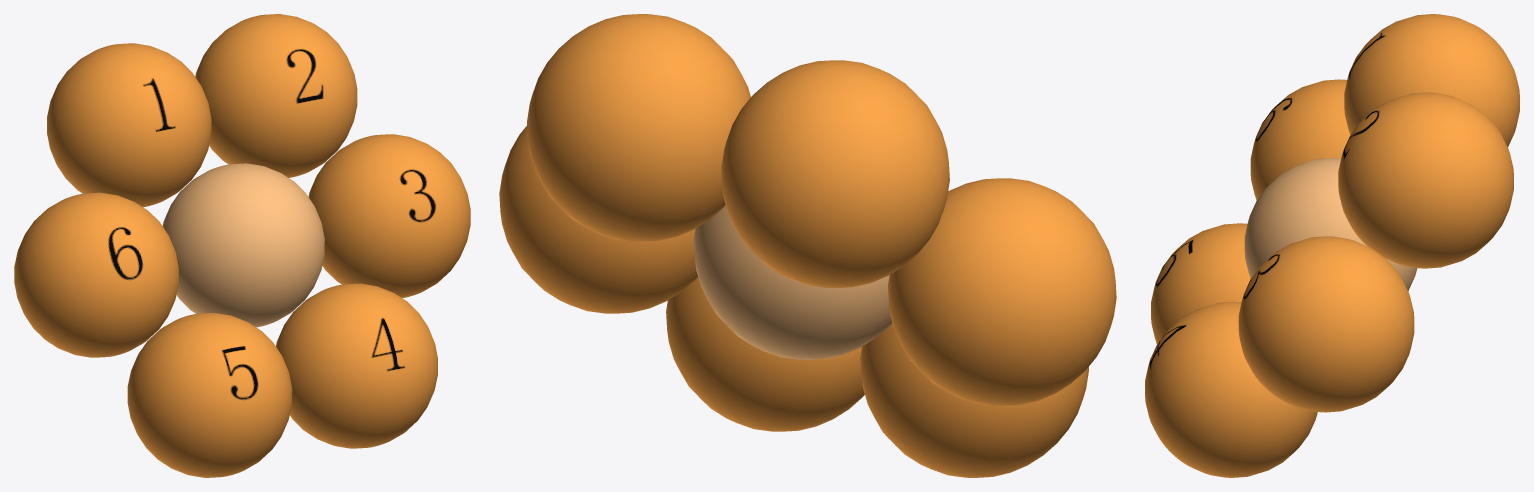
The model's file is huangse.FBX.
3 views of the same model, side by side, from view 1: azimuth 30°, elevation 25°; view 2: azimuth 150°, elevation 25°; view 3: azimuth 270°, elevation 25° (orthographic). The views are drawn at different scales.
Parts seen in each view (by area): view 1: Sphere017, Sphere018, Sphere004, Sphere016, Sphere014, Sphere022, Sphere015; view 2: Sphere004, Sphere018, Sphere014, Sphere017, Sphere015, Sphere016, Sphere022; view 3: Sphere015, Sphere014, Sphere016, Sphere004, Sphere022, Sphere018, Sphere017.
Part boxes in pixels (<box>): Sphere017: <box>127,313,292,477</box>; Sphere018: <box>14,192,178,357</box>; Sphere004: <box>47,43,211,207</box>; Sphere016: <box>276,283,437,448</box>; Sphere014: <box>195,14,357,177</box>; Sphere022: <box>162,163,324,327</box>; Sphere015: <box>308,134,470,297</box>; Sphere004: <box>721,60,949,288</box>; Sphere018: <box>888,178,1116,406</box>; Sphere014: <box>527,14,750,241</box>; Sphere017: <box>860,323,1088,477</box>; Sphere015: <box>499,126,697,313</box>; Sphere016: <box>666,277,864,431</box>; Sphere022: <box>693,205,892,359</box>; Sphere015: <box>1238,236,1414,412</box>; Sphere014: <box>1338,92,1513,268</box>; Sphere016: <box>1145,301,1317,477</box>; Sphere004: <box>1344,14,1519,146</box>; Sphere022: <box>1244,158,1417,290</box>; Sphere018: <box>1250,79,1350,200</box>; Sphere017: <box>1151,223,1250,344</box>.
Bounding box in the file's own units: 29.97 × 23.59 × 21.24.
Materials: 1 (1 with a texture image).
